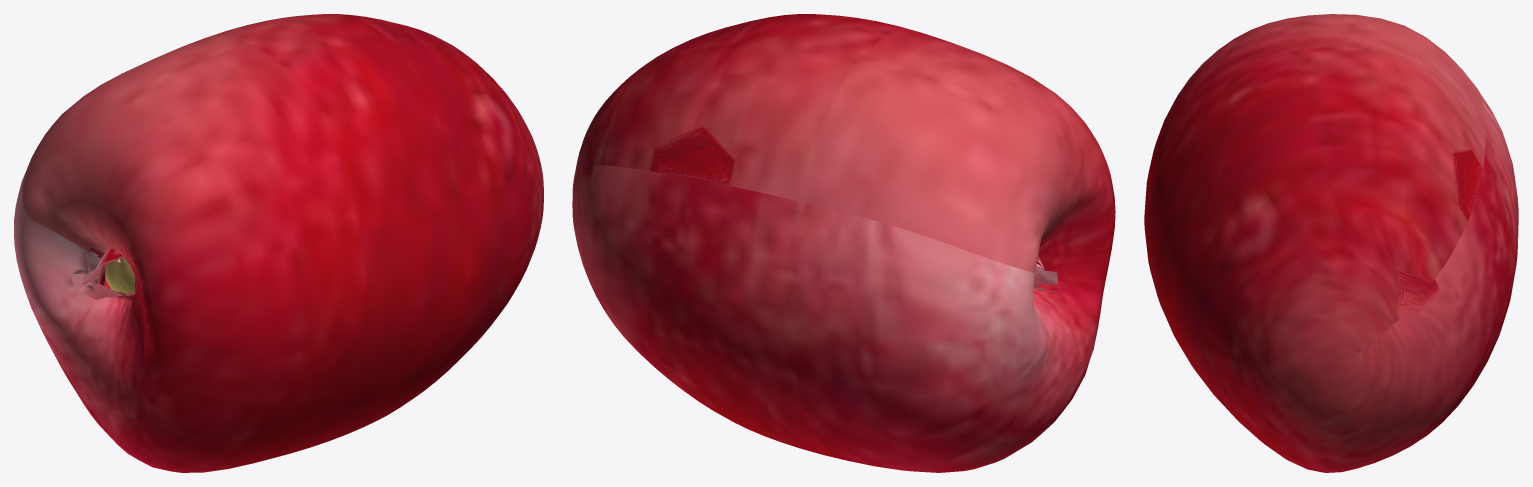
The model's file is coffeebean.glb.
3 renders of one model, left to right at view 1: azimuth 30°, elevation 25°; view 2: azimuth 150°, elevation 25°; view 3: azimuth 270°, elevation 25°, orthographic. The views are drawn at different scales.
Parts seen in each view (by area): view 1: 10174_Cherry_v01_l3, Bean_3; view 2: 10174_Cherry_v01_l3; view 3: 10174_Cherry_v01_l3.
Part boxes in pixels (bbox=[...]): 10174_Cherry_v01_l3: bbox=[14, 14, 543, 472]; Bean_3: bbox=[105, 257, 135, 294]; 10174_Cherry_v01_l3: bbox=[572, 14, 1115, 472]; 10174_Cherry_v01_l3: bbox=[1144, 14, 1518, 472].
Bounding box in the file's own units: 0.3442 × 0.2781 × 0.2462.
2 materials, 1 textured.
